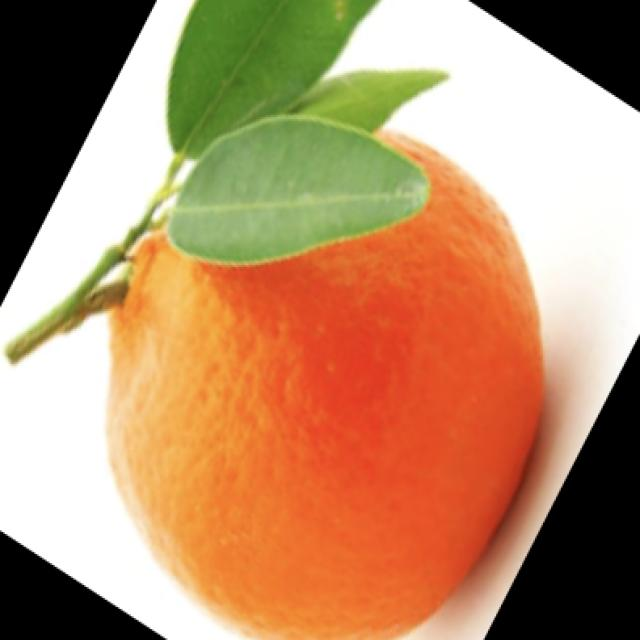matang: (101, 120, 537, 640)
